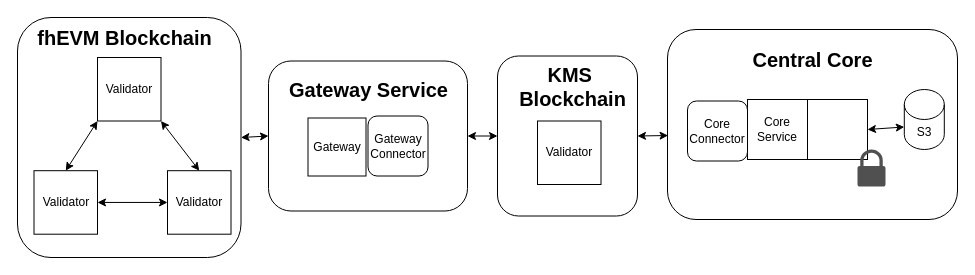
This 975x275 diagram has some shape labels left out. Each missing label, with the box of its shape:
Engine: (806, 98, 868, 160)
Nitro: (857, 149, 885, 186)
